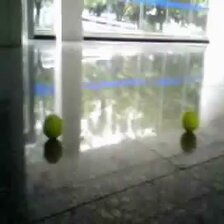tennis: (42, 114, 63, 138), (181, 112, 198, 131)
